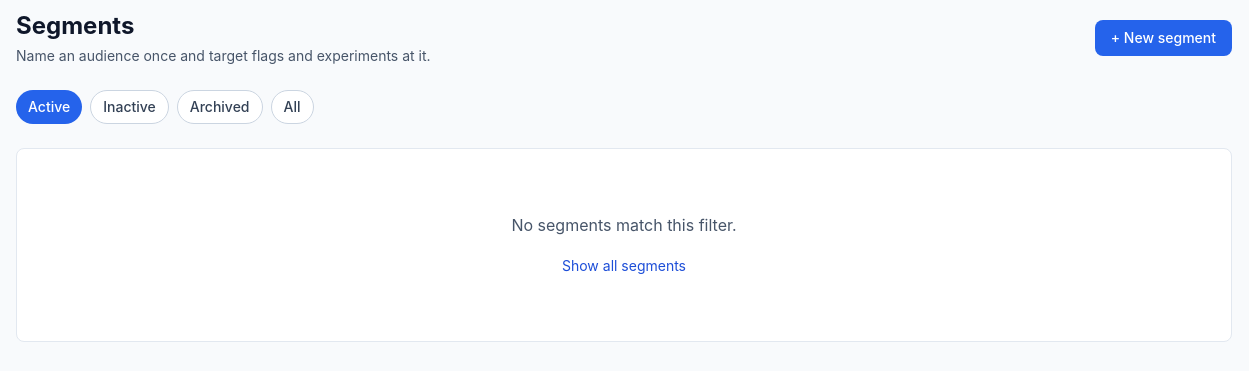
Scenario: SegmentsPage › empty states (D16) › under a filter, it offers Show all
Expected: the text "No segments match this filter." is shown, [511,215,737,235]
Click the button with test id "segments-show-all": [624, 266] box [562,256,686,276]
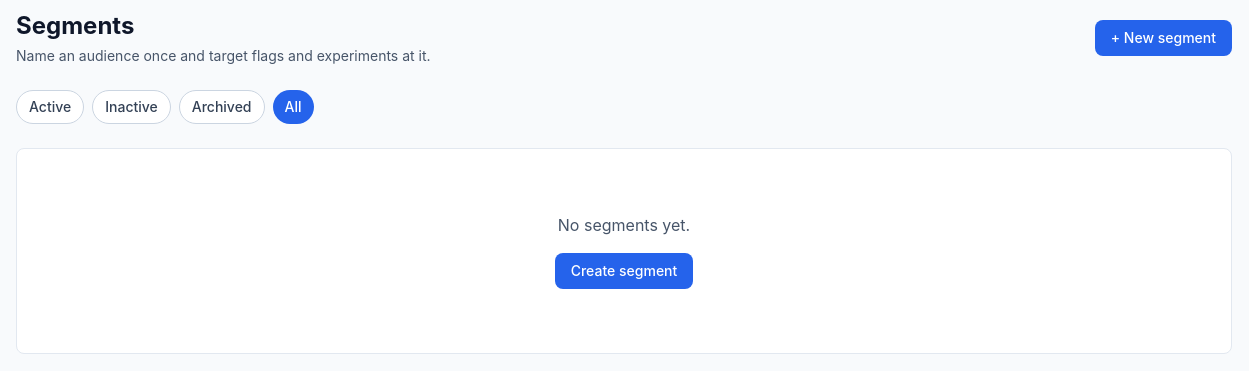
Result: the text "No segments yet." is shown at [558,215,690,235]
